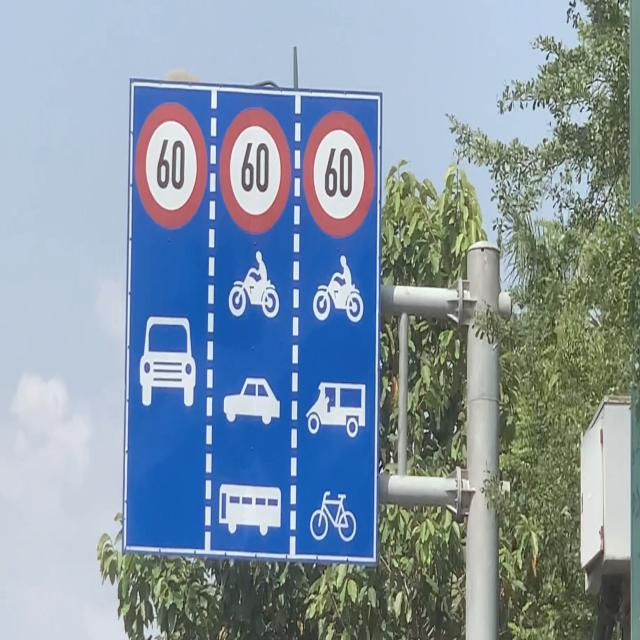Toc do toi da: (133, 86, 213, 231), (212, 96, 291, 235), (301, 106, 375, 239)
